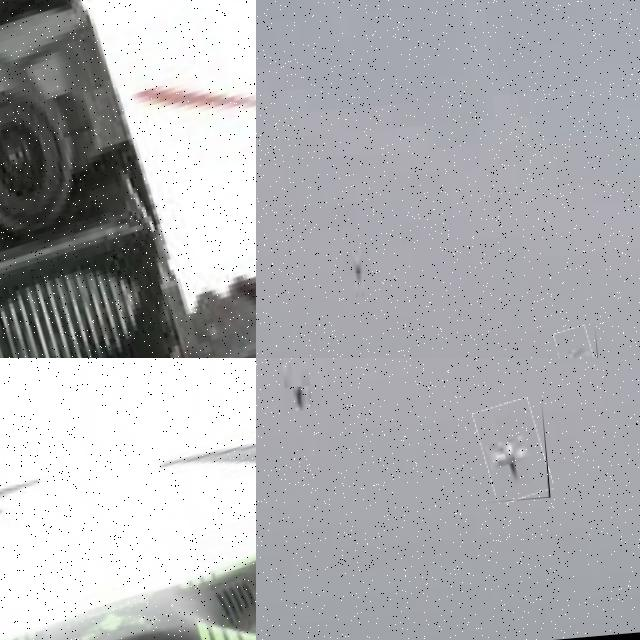drone: (0, 0, 256, 358), (0, 404, 256, 640), (475, 398, 550, 503), (555, 325, 601, 358)
